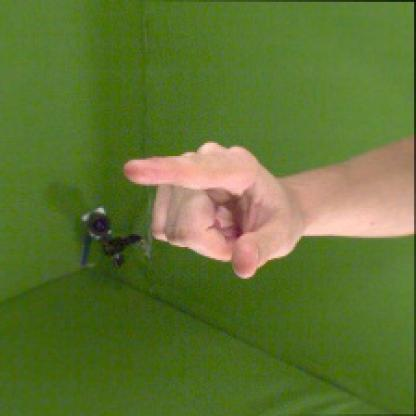Hand: (124, 140, 307, 278)
